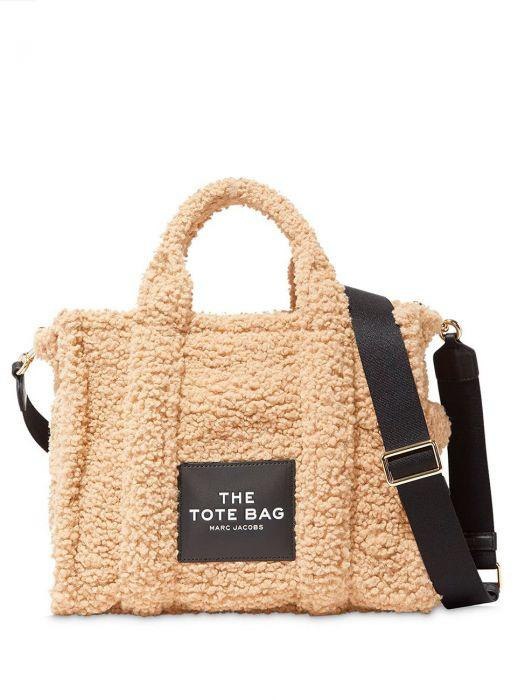MARC-JACOBS: (210, 525, 264, 531)
